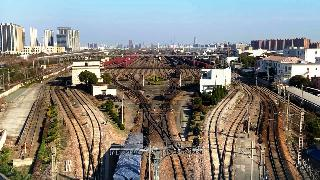train: (111, 132, 144, 180), (164, 88, 175, 100), (175, 69, 181, 77)
